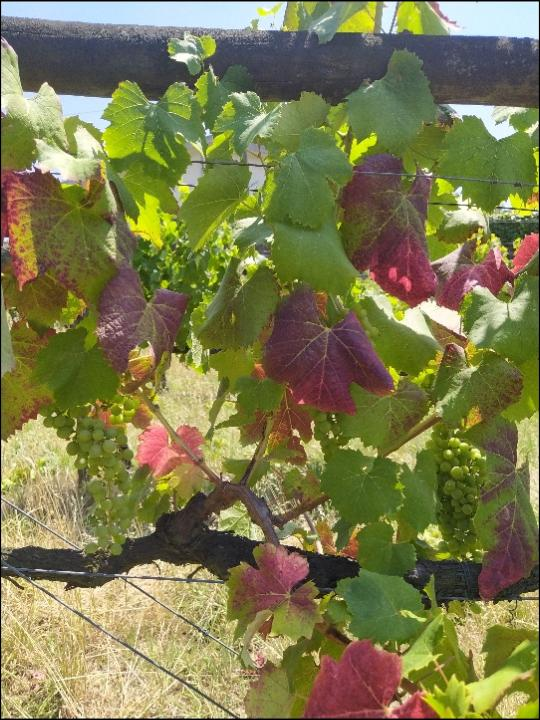grape: (38, 397, 147, 563), (424, 430, 491, 560)
